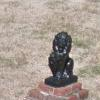Statue: (36, 28, 81, 85)
